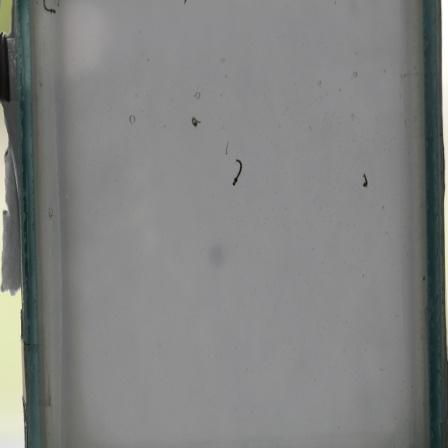Jentik-Nyamuk: (230, 154, 246, 190), (36, 0, 59, 18), (358, 169, 372, 192), (187, 112, 203, 129)
